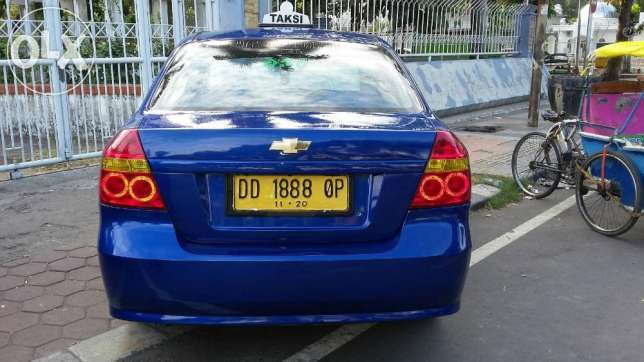plate: (234, 177, 349, 214)
